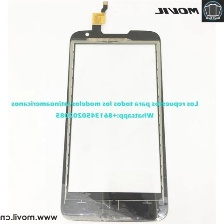phone: (57, 27, 170, 223)
